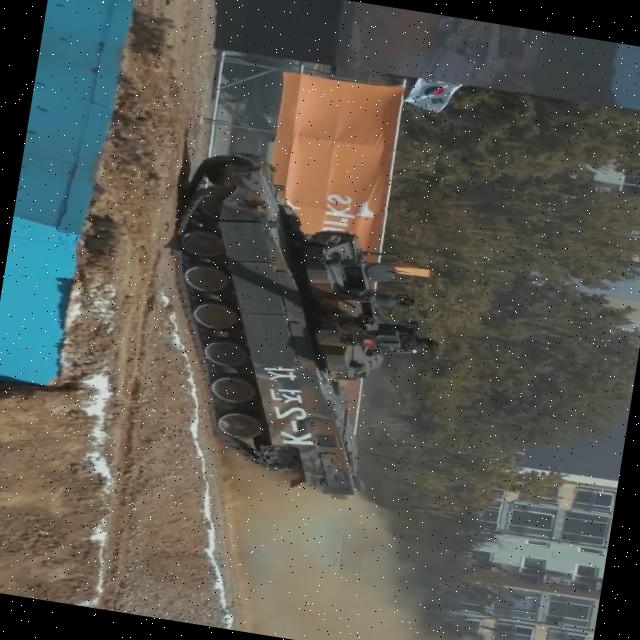korea tank: (128, 142, 466, 514)
